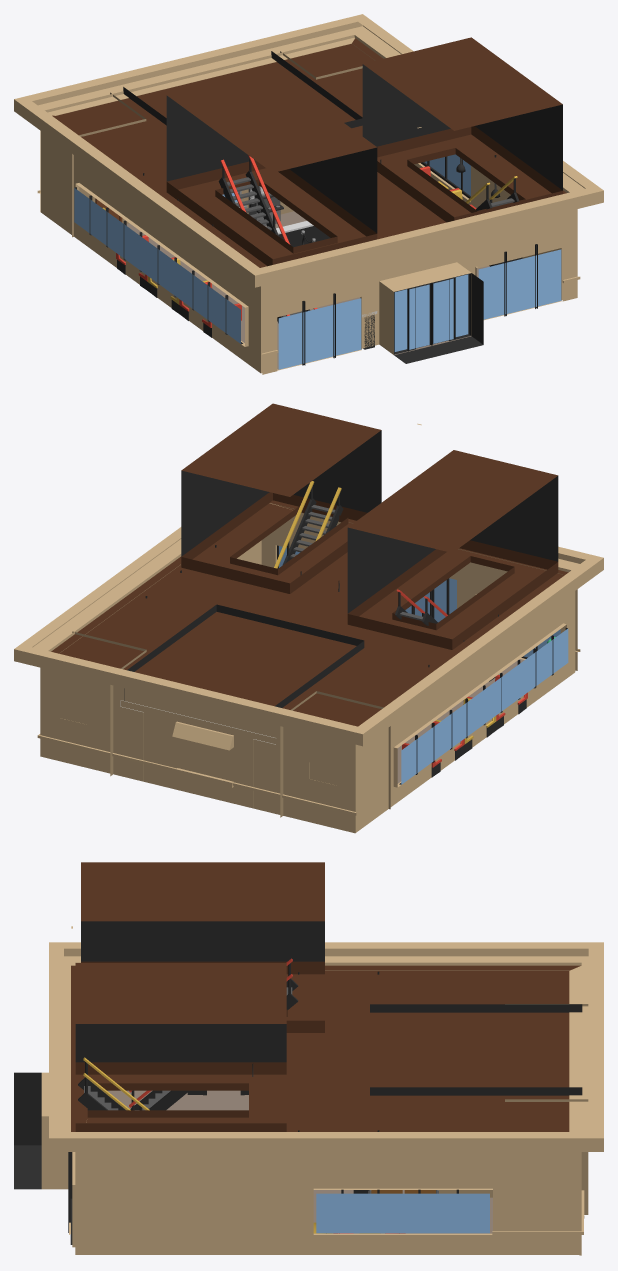
Rendered from building_HappyBurger_in 1.fbx.
3 views of the same model, one above another, from view 1: azimuth 30°, elevation 25°; view 2: azimuth 150°, elevation 25°; view 3: azimuth 270°, elevation 25° (orthographic). The views are drawn at different scales.
Visible parts, largest first — view 1: Cube.002, Cube.005, door_1.001, door_2.001, main_structure.003, Cube.003, Cube.004; view 2: Cube.002, main_structure.003, Cube.004, Cube.005; view 3: Cube.002, main_structure.003, Cube.004, Cube.005.
Part boxes in pixels (bbox=[...]): Cube.002: bbox=[14, 14, 603, 374]; Cube.005: bbox=[218, 155, 317, 323]; door_1.001: bbox=[431, 277, 455, 345]; door_2.001: bbox=[407, 283, 431, 351]; main_structure.003: bbox=[123, 51, 362, 214]; Cube.003: bbox=[276, 221, 330, 247]; Cube.004: bbox=[466, 176, 519, 210]; Cube.002: bbox=[14, 403, 603, 833]; main_structure.003: bbox=[120, 604, 364, 807]; Cube.004: bbox=[274, 481, 343, 568]; Cube.005: bbox=[395, 589, 495, 681]; Cube.002: bbox=[14, 862, 603, 1255]; main_structure.003: bbox=[370, 1004, 582, 1197]; Cube.004: bbox=[78, 1057, 149, 1110]; Cube.005: bbox=[129, 958, 298, 1110].
Size of the model in its own units: 1897 by 2414 by 1124.
